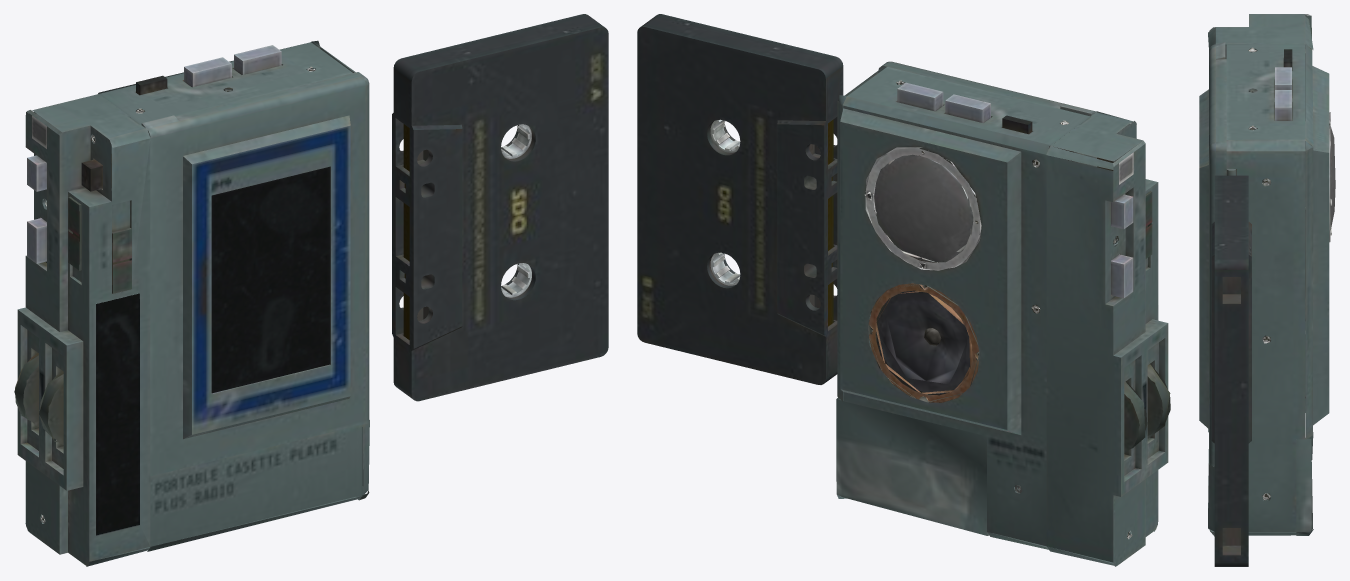
Rendered from portable_cassette_player.glb.
The picture shows the model from 3 angles, left to right: view 1: azimuth 30°, elevation 25°; view 2: azimuth 150°, elevation 25°; view 3: azimuth 270°, elevation 25°; orthographic projection. The views are drawn at different scales.
Parts seen in each view (by area): view 1: portable_cassette_player, portable_cassette_player_lid, portable_cassette_player_casette; view 2: portable_cassette_player, portable_cassette_player_casette, portable_cassette_player_lid; view 3: portable_cassette_player, portable_cassette_player_casette, portable_cassette_player_lid.
Part boxes in pixels (left/top/right/bottom): portable_cassette_player: left=14, top=40, right=369, bottom=566; portable_cassette_player_lid: left=141, top=72, right=369, bottom=476; portable_cassette_player_casette: left=392, top=14, right=608, bottom=401; portable_cassette_player: left=836, top=66, right=1170, bottom=566; portable_cassette_player_casette: left=637, top=14, right=843, bottom=384; portable_cassette_player_lid: left=878, top=61, right=1096, bottom=116; portable_cassette_player: left=1208, top=14, right=1335, bottom=536; portable_cassette_player_casette: left=1211, top=175, right=1251, bottom=566; portable_cassette_player_lid: left=1199, top=42, right=1235, bottom=466.
Size of the model in its own units: 0.1724 by 0.1308 by 0.0396.
2 materials, 2 textured.
